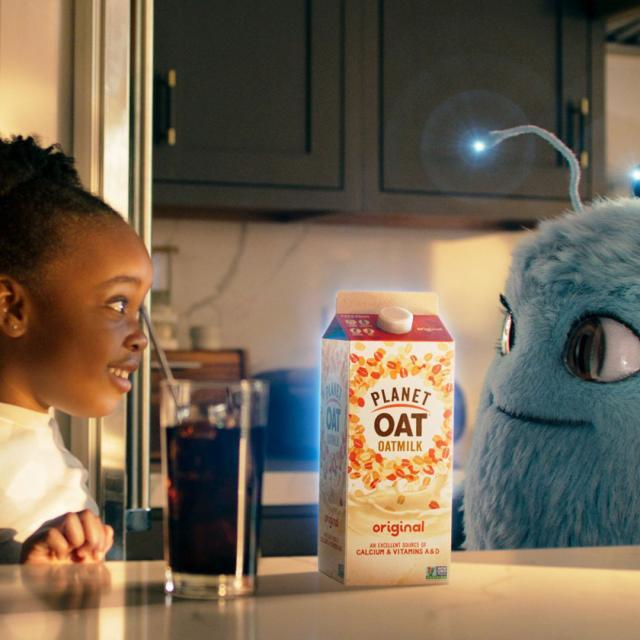Planet Oat Original: (308, 275, 462, 598)
